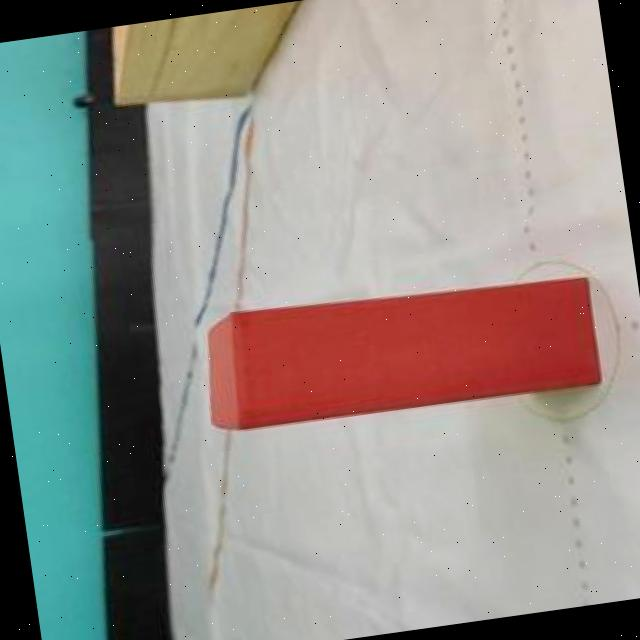redbox: (194, 262, 603, 438)
